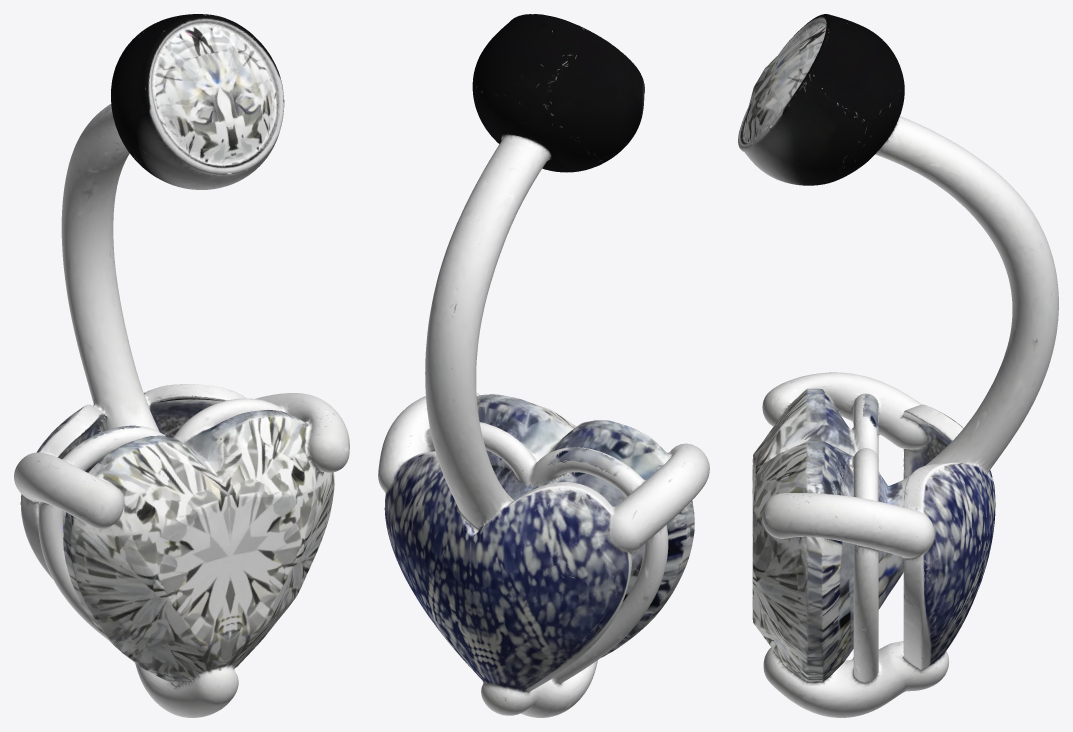
Rendered from silver_heart.glb.
3 views of the same model, side by side, from view 1: azimuth 30°, elevation 25°; view 2: azimuth 150°, elevation 25°; view 3: azimuth 270°, elevation 25° (orthographic).
Parts seen in each view (by area): view 1: Mesh_0; view 2: Mesh_0; view 3: Mesh_0.
Boxes of the visible parts, x1=… form: Mesh_0: x1=14, y1=14, x2=349, y2=717; Mesh_0: x1=378, y1=14, x2=709, y2=717; Mesh_0: x1=738, y1=14, x2=1058, y2=717.
Size of the model in its own units: 0.8473 by 1.91 by 0.8029.
1 material, 1 textured.
